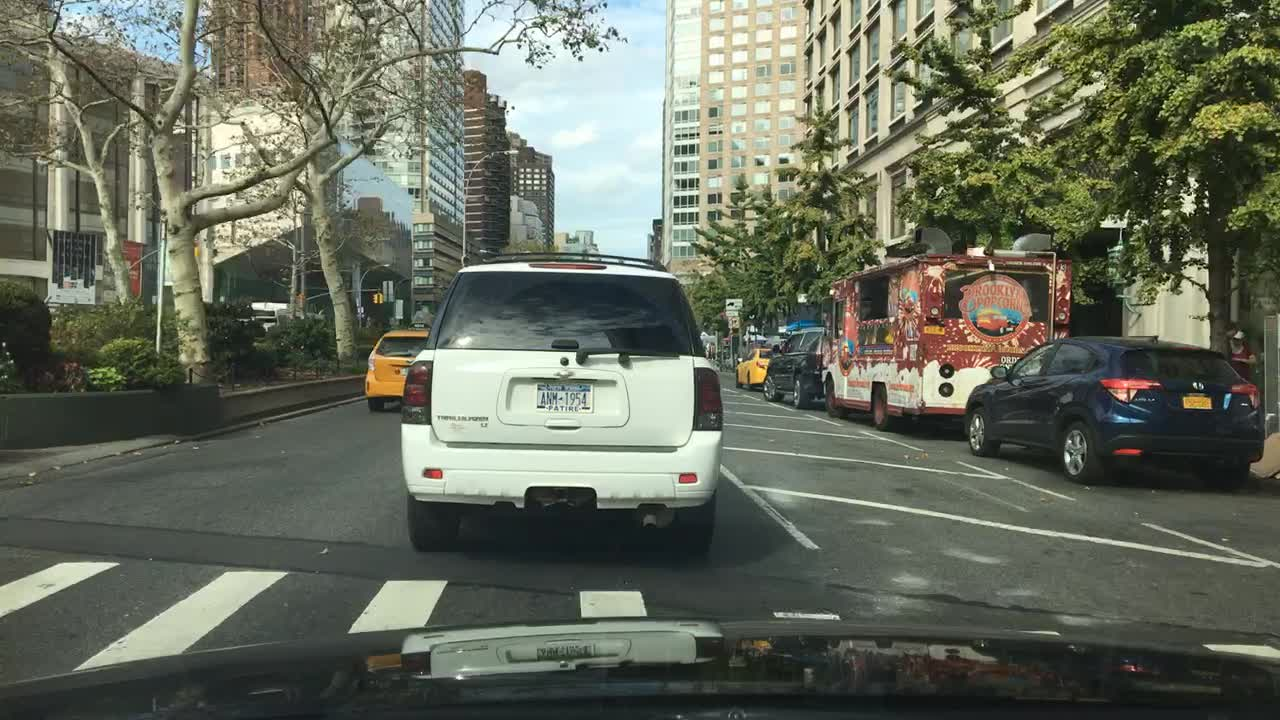bus: (818, 253, 1076, 432)
car: (398, 247, 724, 555), (960, 334, 1267, 485), (363, 320, 430, 413), (762, 325, 825, 406), (247, 299, 311, 347), (732, 345, 771, 389)
person: (1227, 326, 1258, 385)
traffic light: (371, 292, 379, 303)
traffic sign: (381, 280, 394, 303), (724, 297, 740, 312), (727, 317, 740, 328)
